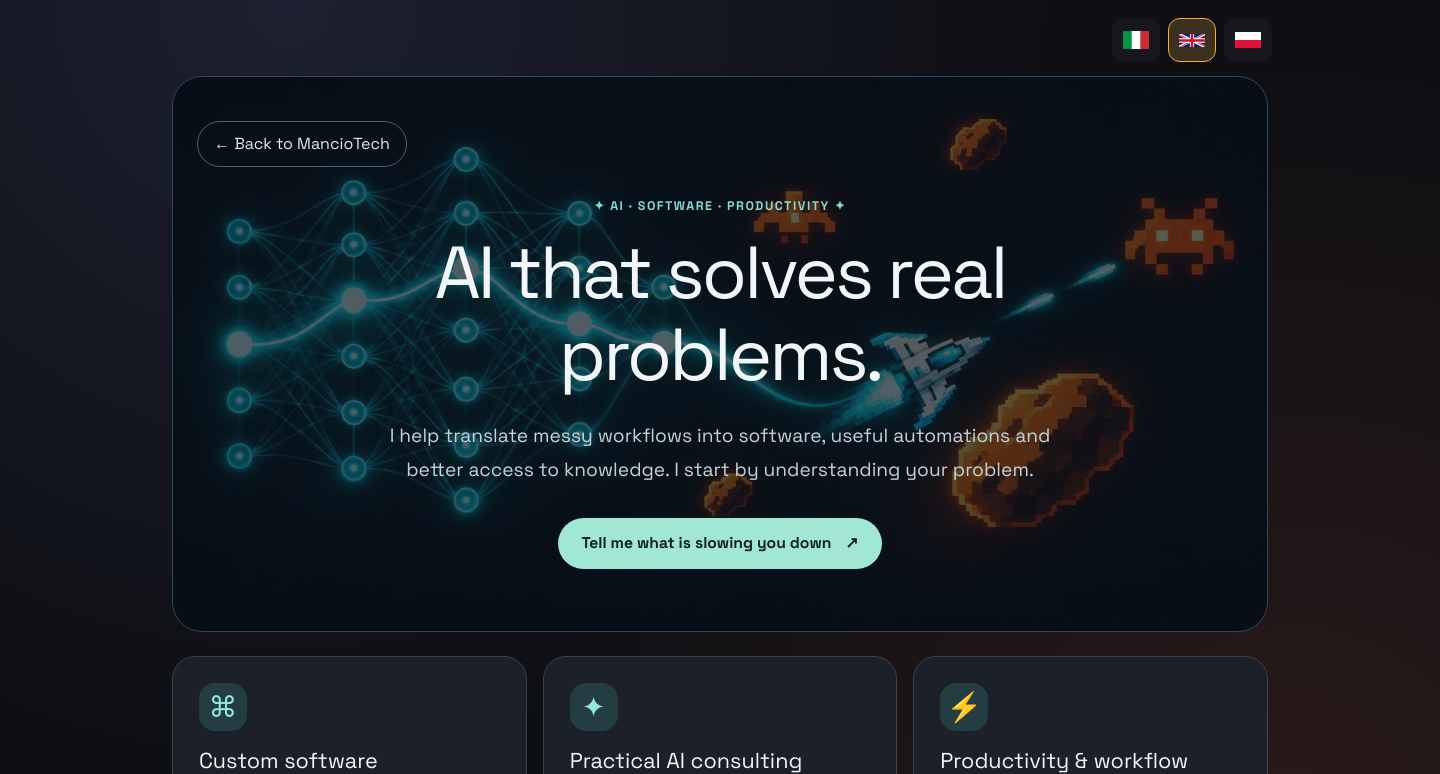
Test: services page follows the global Italian and Polish language flags
Later steps or results of the test are not shown.
Click the button named "Italiano". click: (1136, 40)
box: [1112,18,1160,62]
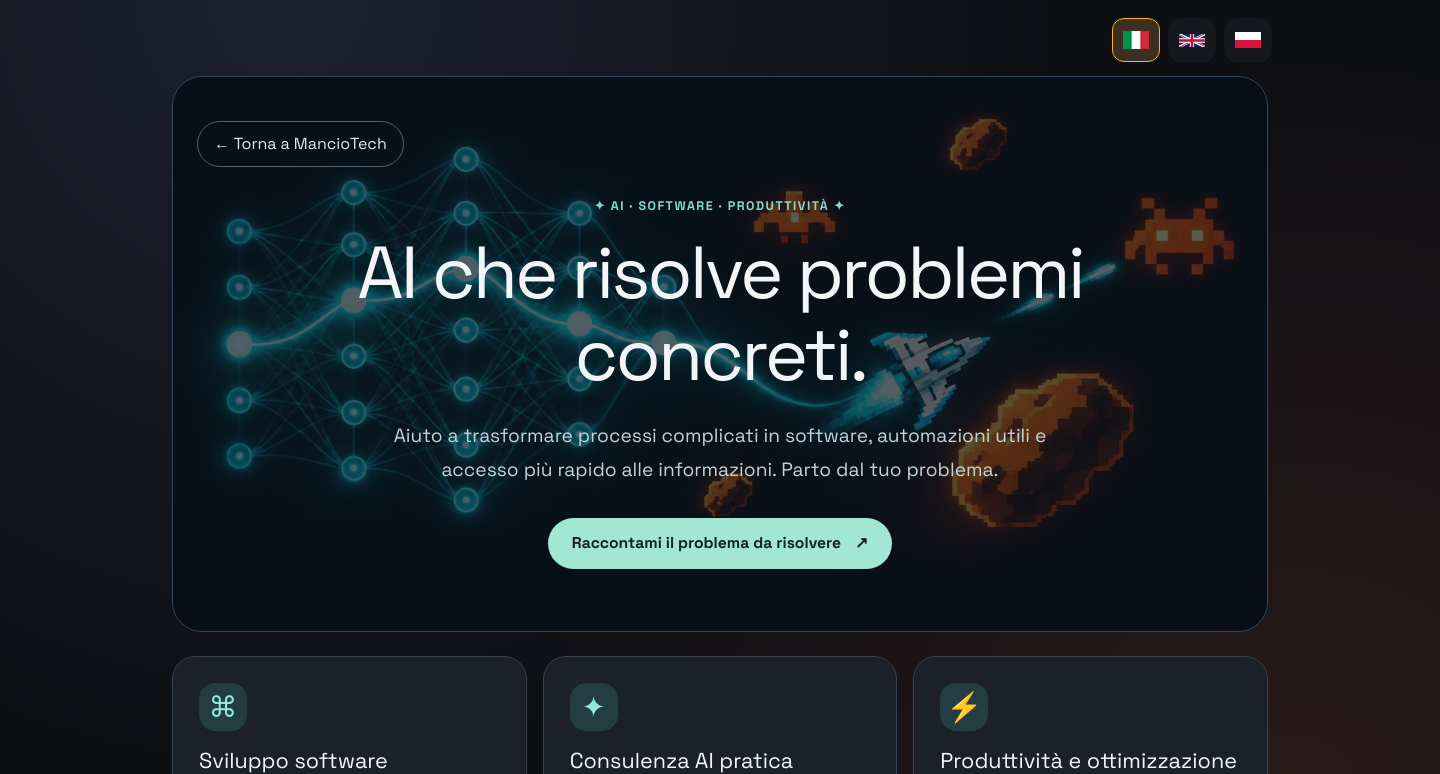
Result: the heading "AI che risolve problemi concreti." is shown at [330,232,1110,396]
